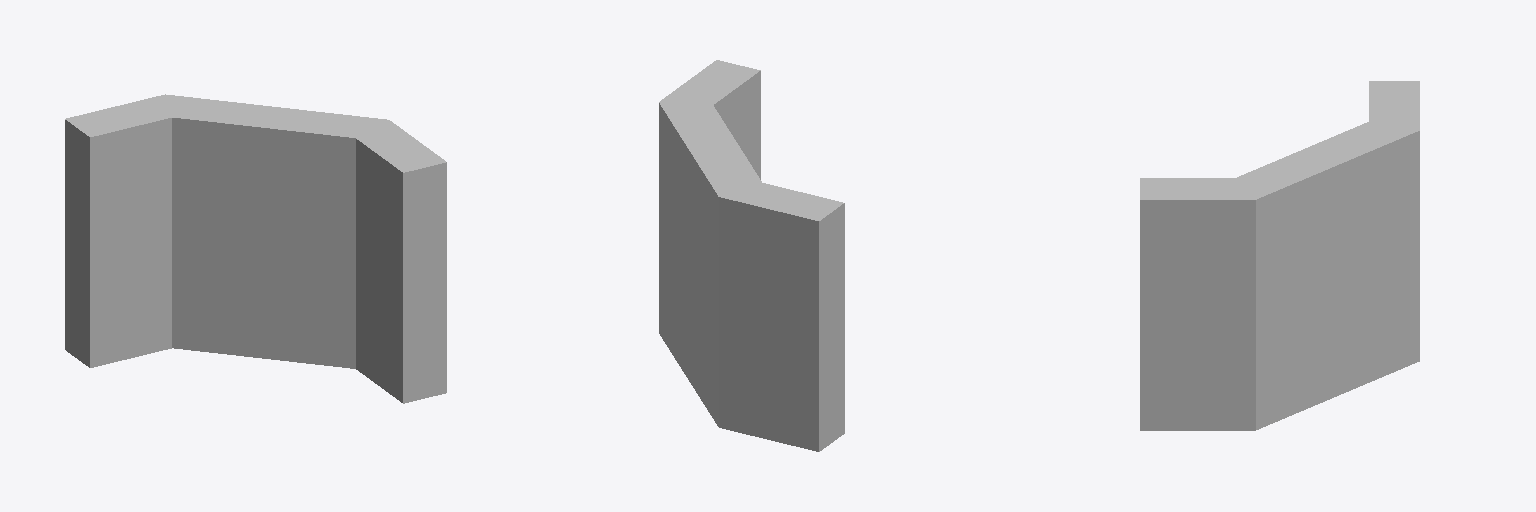
Rendered from 2_wall_corner.obj.
3 renders of one model, left to right at view 1: azimuth 30°, elevation 25°; view 2: azimuth 150°, elevation 25°; view 3: azimuth 270°, elevation 25°, orthographic.
Parts seen in each view (by area): view 1: object1; view 2: object1; view 3: object1.
Boxes of the visible parts, box(x1,y1,x2,y2) form: object1: box(65, 94, 446, 403); object1: box(659, 60, 844, 451); object1: box(1140, 81, 1419, 430).
Size of the model in its own units: 1.1 by 1 by 1.1.